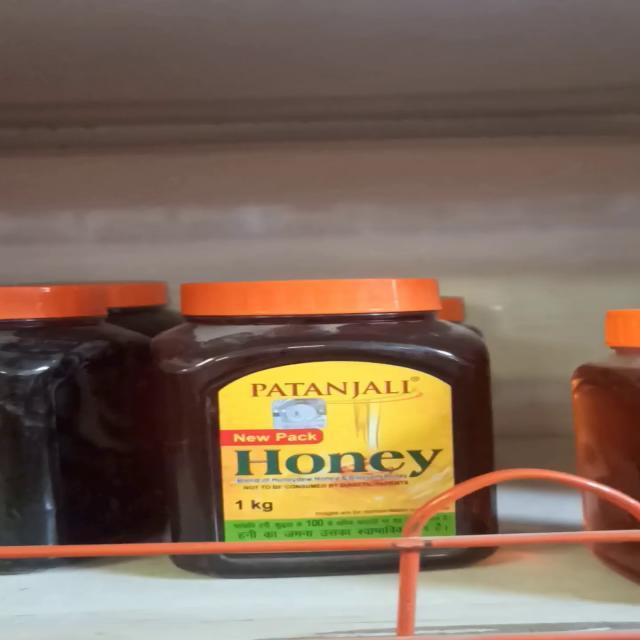Patanjali Honey: (166, 278, 495, 572)
